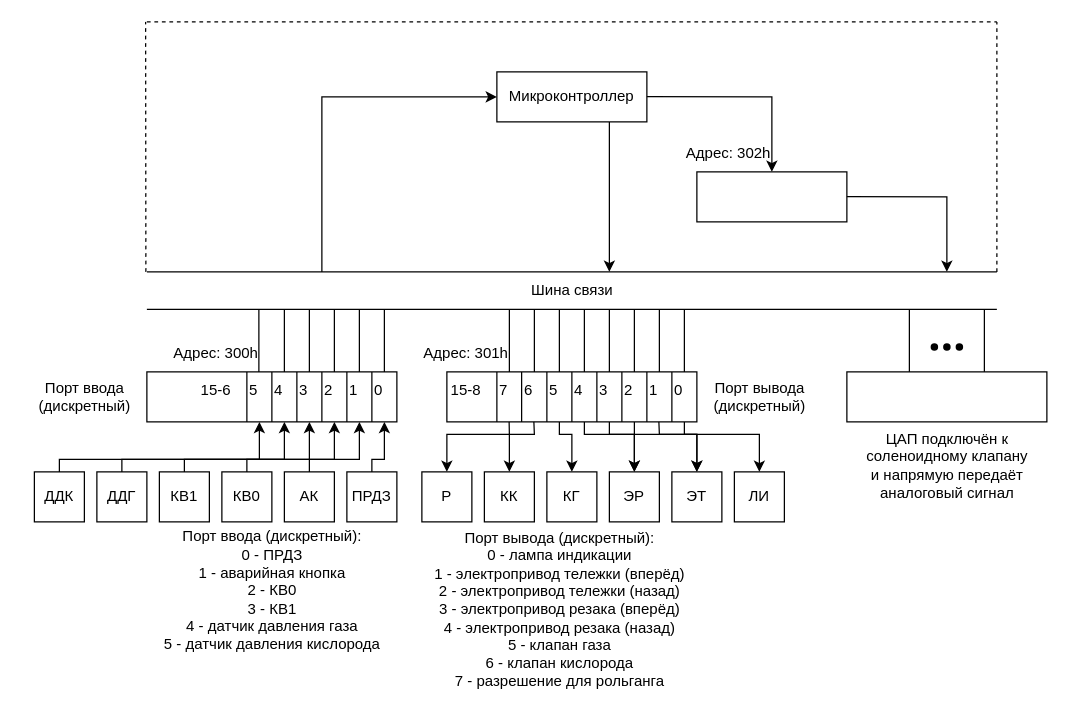
Image size: 1069x719. Some labels were removed from this diagram. The shapes that lost their labels are listed below. From the top down, each one's box as (x1, y1, x2, y2) in pixels, then its label:
(696, 171, 847, 222): ЦАП
(846, 371, 1047, 422): Соленоидный клапан
